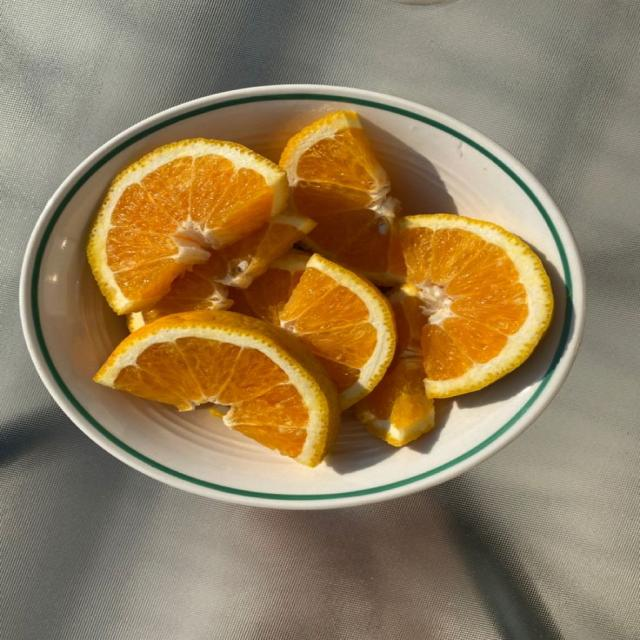orange: (356, 214, 553, 445), (94, 312, 339, 466), (87, 139, 287, 313), (400, 214, 553, 397), (227, 251, 395, 408), (234, 254, 395, 408), (127, 216, 313, 330), (280, 111, 401, 284), (355, 290, 434, 446)
